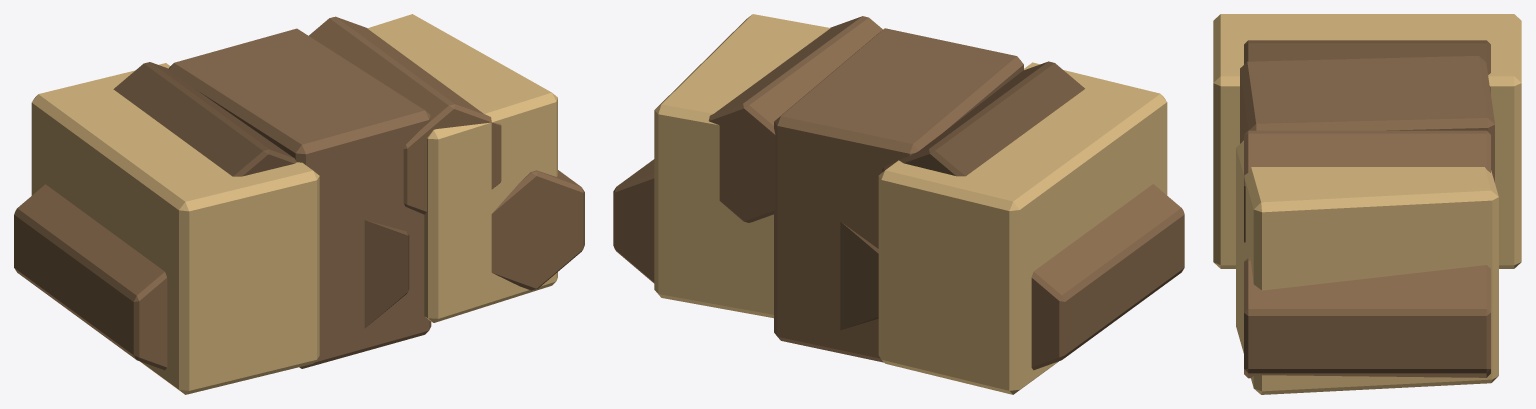
File: town_firewood_stack.lod1.glb
3 renders of one model, left to right at view 1: azimuth 30°, elevation 25°; view 2: azimuth 150°, elevation 25°; view 3: azimuth 270°, elevation 25°, orthographic.
Size of the model in its own units: 1.24 by 0.5978 by 0.738.
